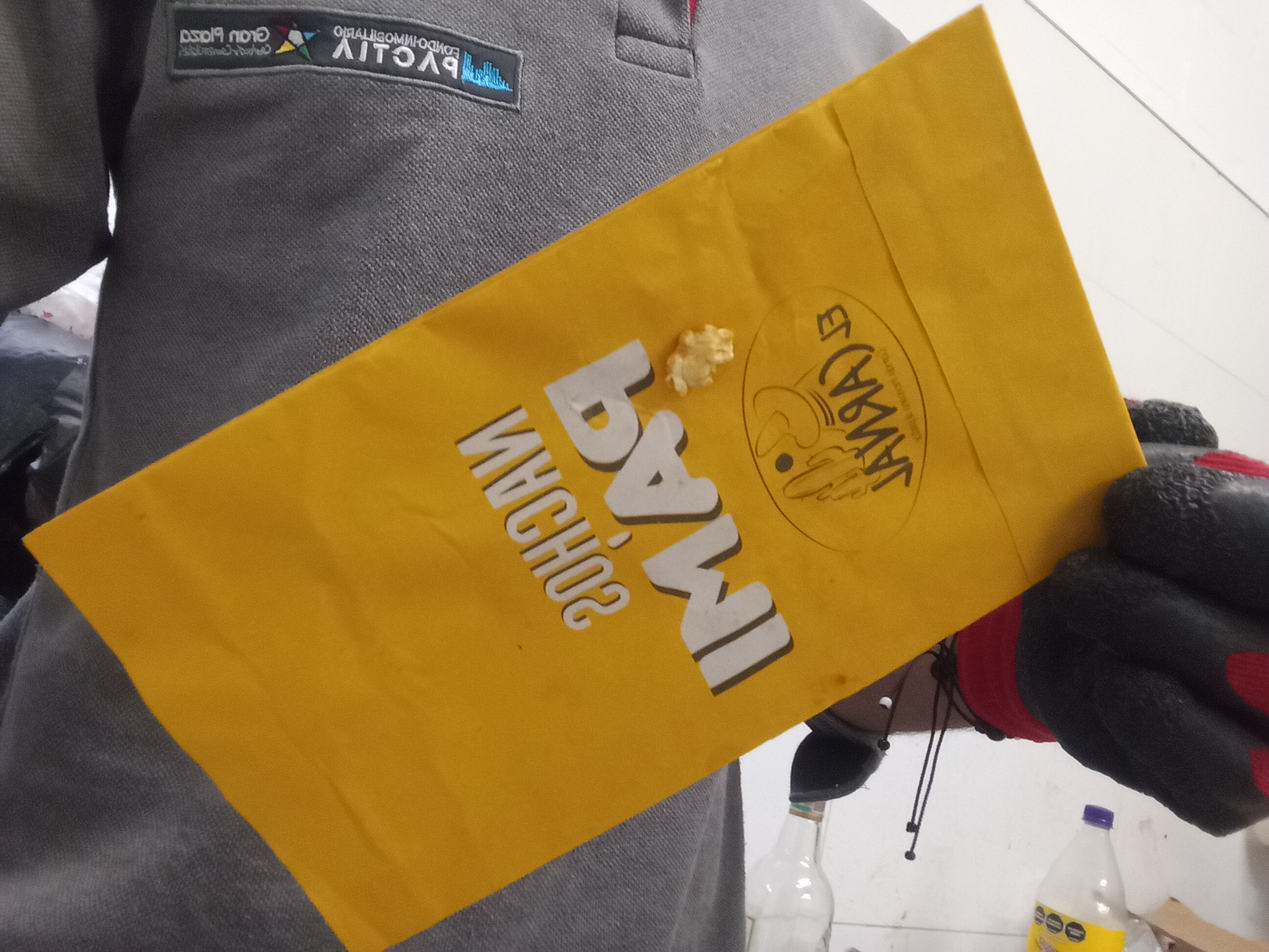Papel: (21, 5, 1146, 952)
